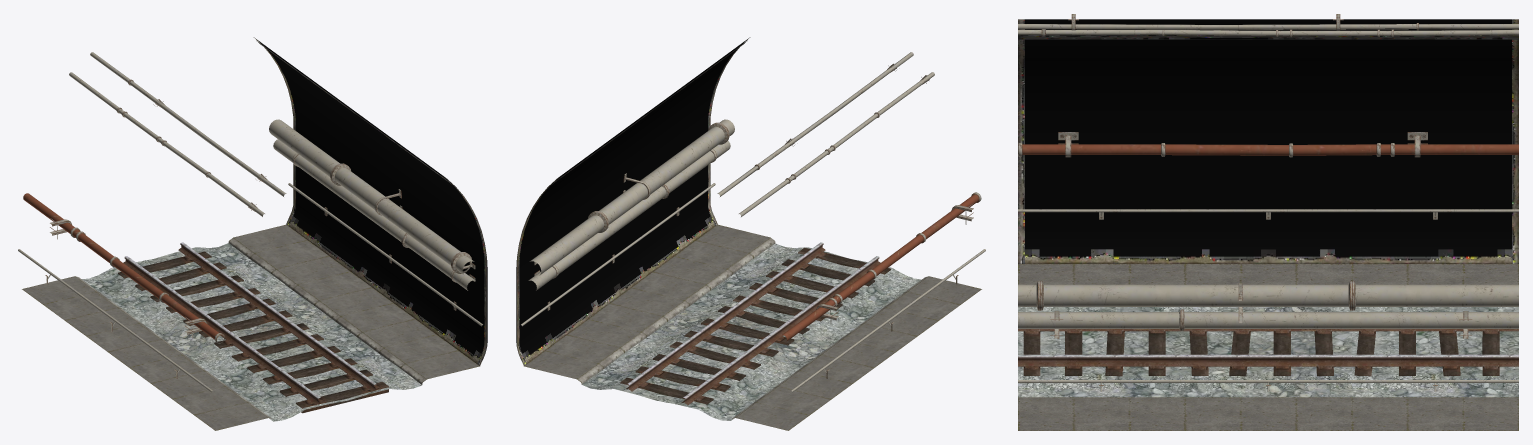
Rendered from train_tunnel_single_str_a_9m.glb.
3 views of the same model, side by side, from view 1: azimuth 30°, elevation 25°; view 2: azimuth 150°, elevation 25°; view 3: azimuth 270°, elevation 25° (orthographic). The views are drawn at different scales.
Parts seen in each view (by area): view 1: train_tunnel_single_str_a_9m_LOD0; view 2: train_tunnel_single_str_a_9m_LOD0; view 3: train_tunnel_single_str_a_9m_LOD0.
Part boxes in pixels (box(x1,y1,x2,y2)): train_tunnel_single_str_a_9m_LOD0: box(18, 37, 487, 430); train_tunnel_single_str_a_9m_LOD0: box(516, 37, 985, 430); train_tunnel_single_str_a_9m_LOD0: box(1018, 14, 1518, 430).
Size of the model in its own units: 7.83 by 6.28 by 9.
Materials: 7 (7 with a texture image).
